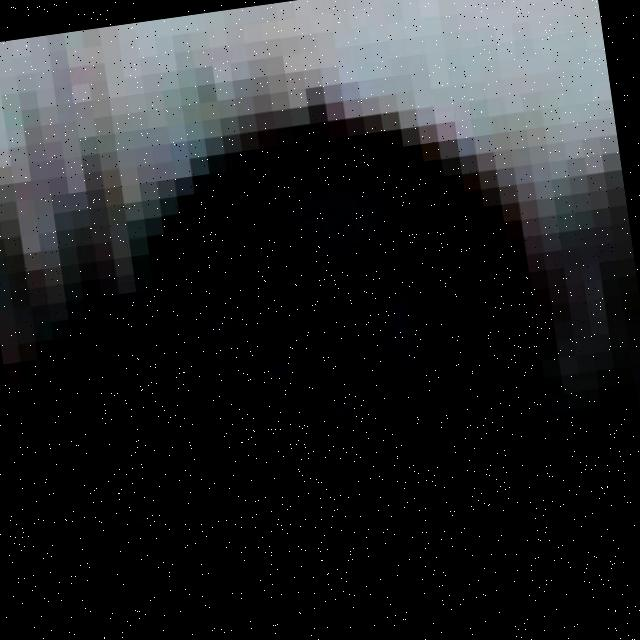Ograniczenie predkosci do 80: (120, 96, 563, 538)
